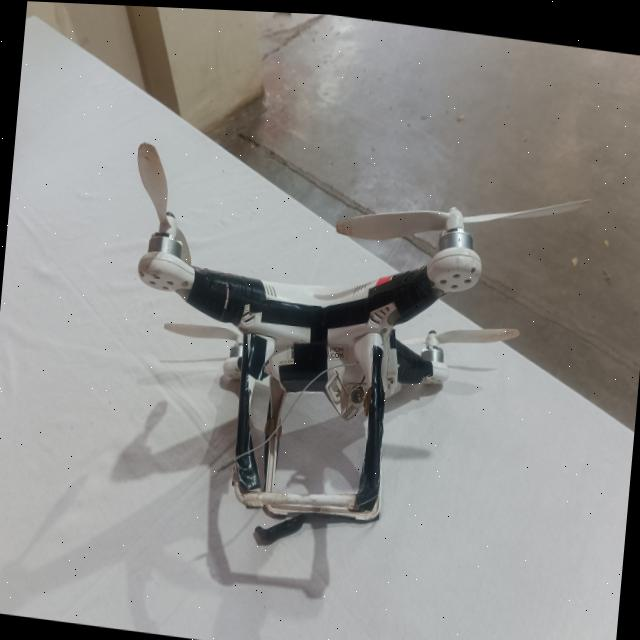drone: (102, 130, 500, 545)
